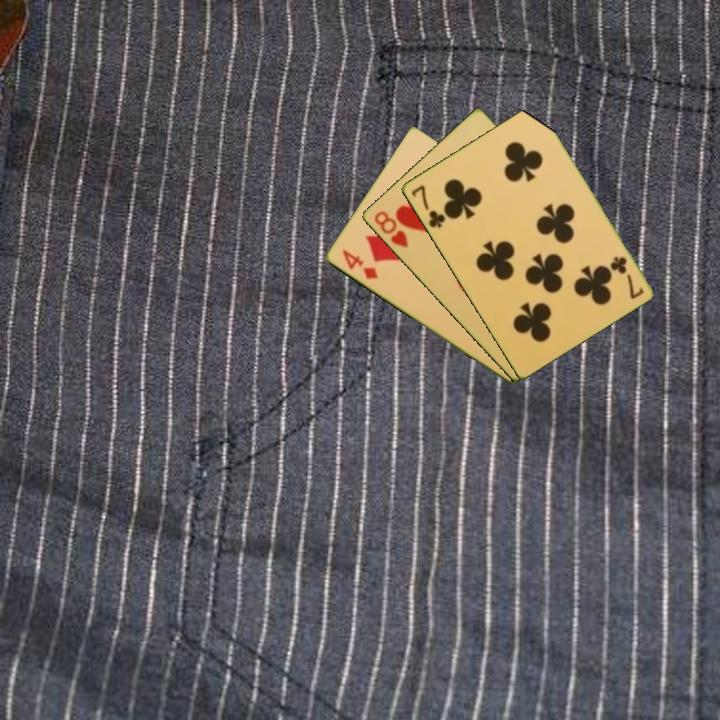4d: (338, 246, 381, 282)
7c: (407, 181, 448, 231), (606, 253, 646, 302)
8h: (370, 207, 411, 251)
